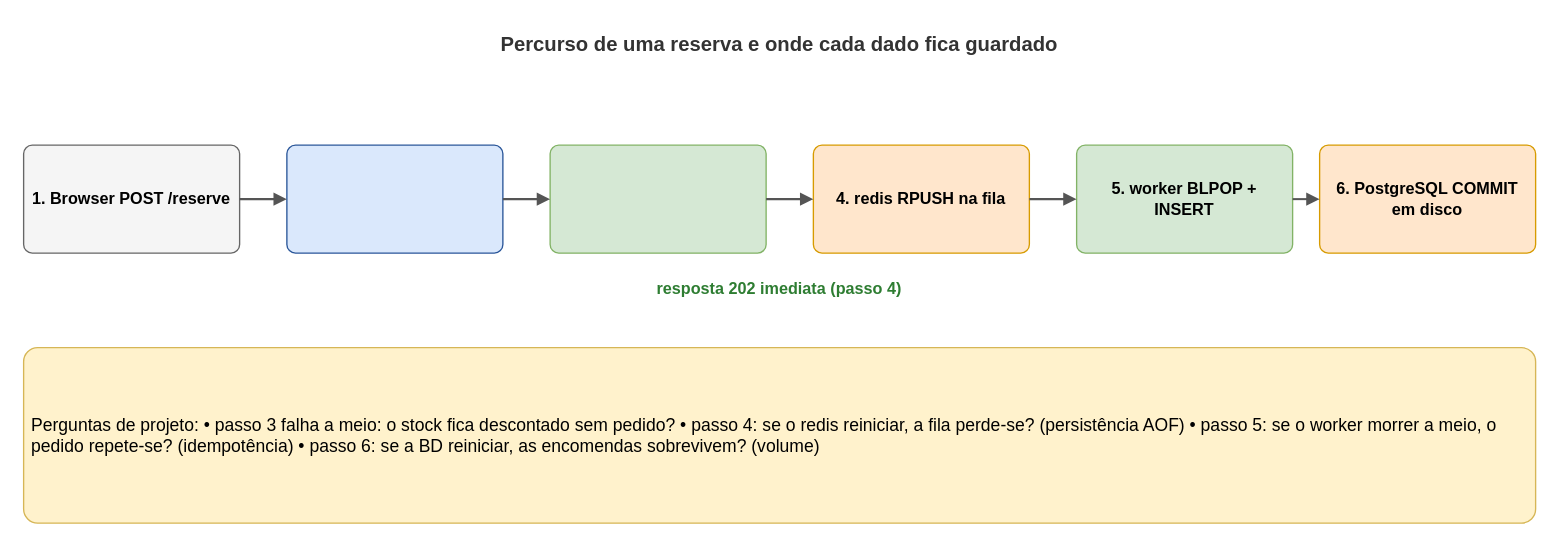
Some shapes in this 1559 by 547 pixel diagram are drawn without their labels. Each missing label, with the centre of its shape:
2. Balanceador escolhe uma api viva: pixel 394 198
3. api DECR stock (atómico): pixel 657 198
